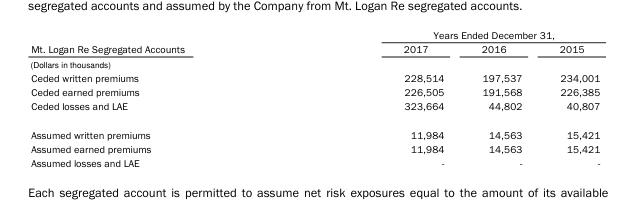table: (29, 28, 599, 168)
table column: (29, 28, 293, 168), (293, 28, 462, 168), (462, 28, 540, 168), (540, 28, 599, 168)
table column header: (29, 28, 599, 56)
table projected row header: (29, 56, 599, 70)
table row: (29, 98, 599, 120), (29, 120, 599, 141), (29, 41, 599, 56), (29, 56, 599, 70), (29, 70, 599, 84), (29, 84, 599, 98), (29, 141, 599, 155), (29, 28, 599, 41), (29, 155, 599, 168)
table spanning cell: (29, 28, 293, 56), (293, 28, 599, 41)
